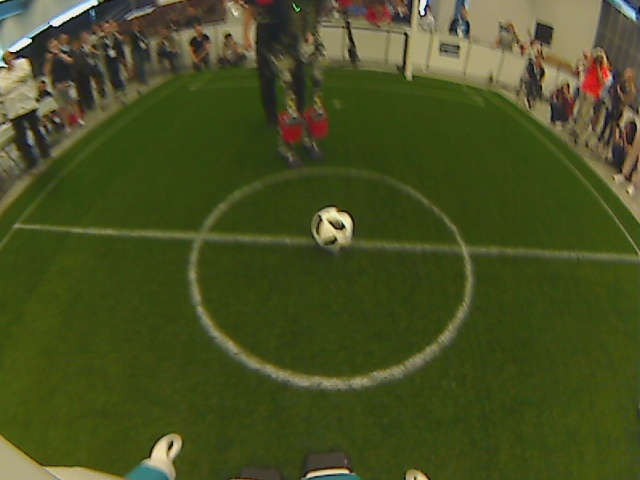ball: (308, 205, 358, 253)
